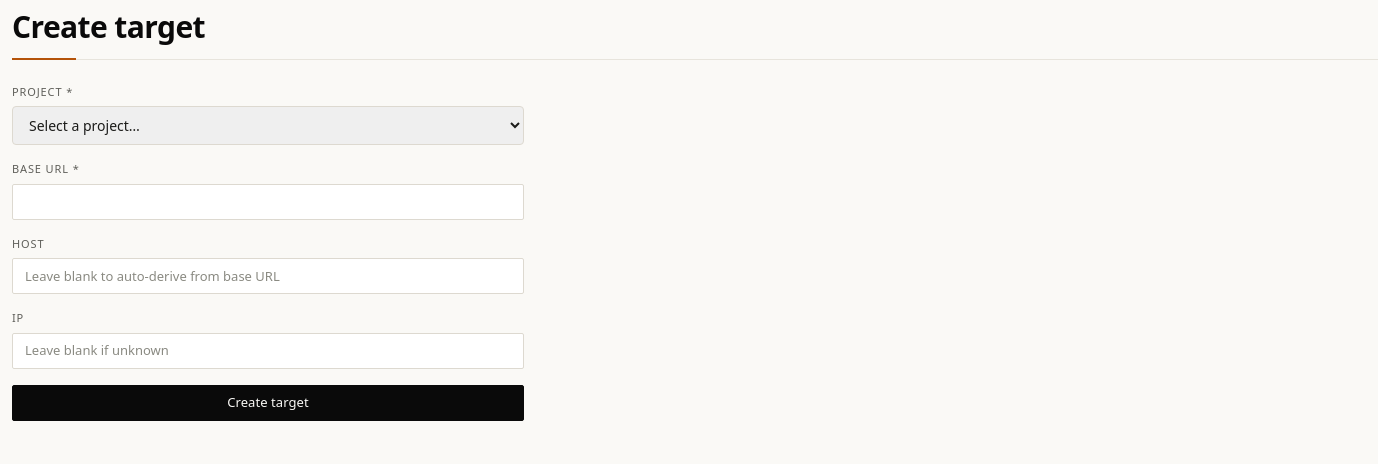
Scenario: CreateTarget — base_url validation (no network call) › rejects base_url without scheme
This screenshot has width=1378, height=464.
Select "Local Lab" in the dropdown labelled "Project *" at (268,126), box [12,106,524,145]
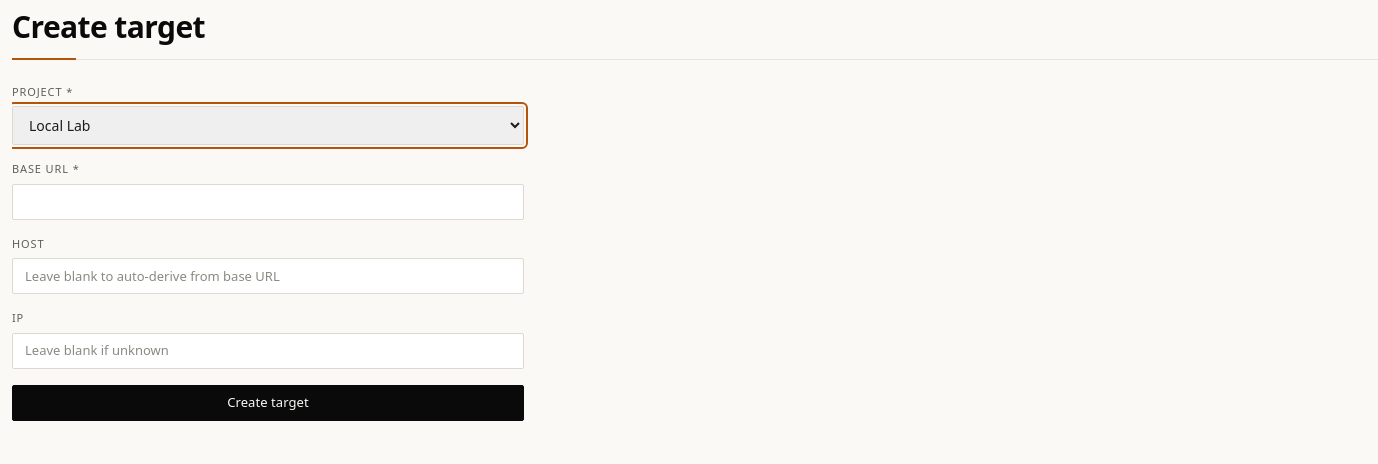
Type "not-a-url" into the field labelled "Base URL *" at (268,202), box [12,184,524,220]
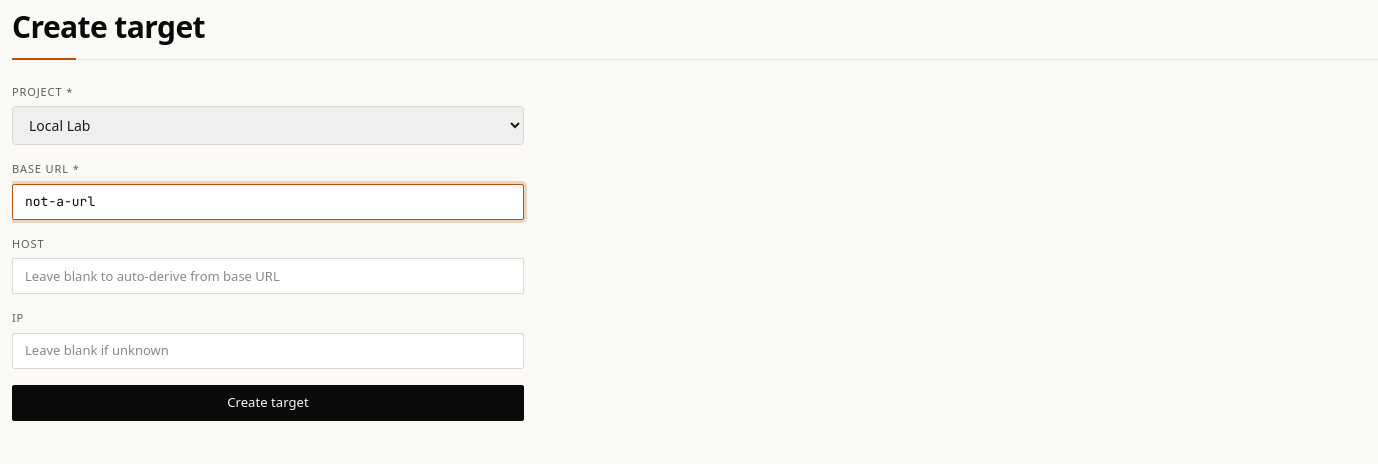
Click the button "Create target" at (268,402), box [12,384,524,420]
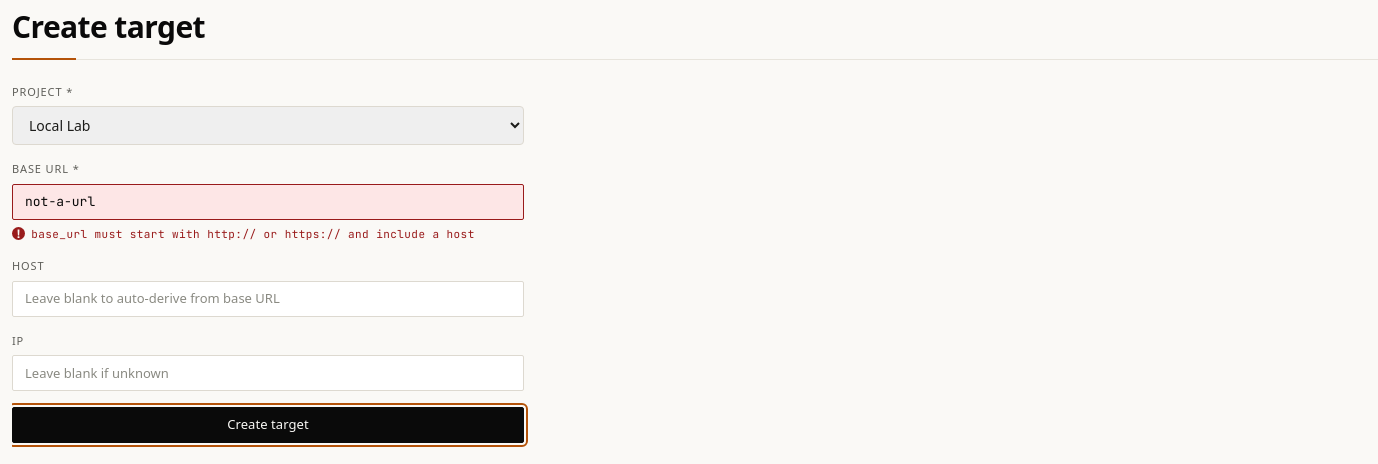
Expected: the text "must start with http:// or https://" is shown, [31,226,475,240]
